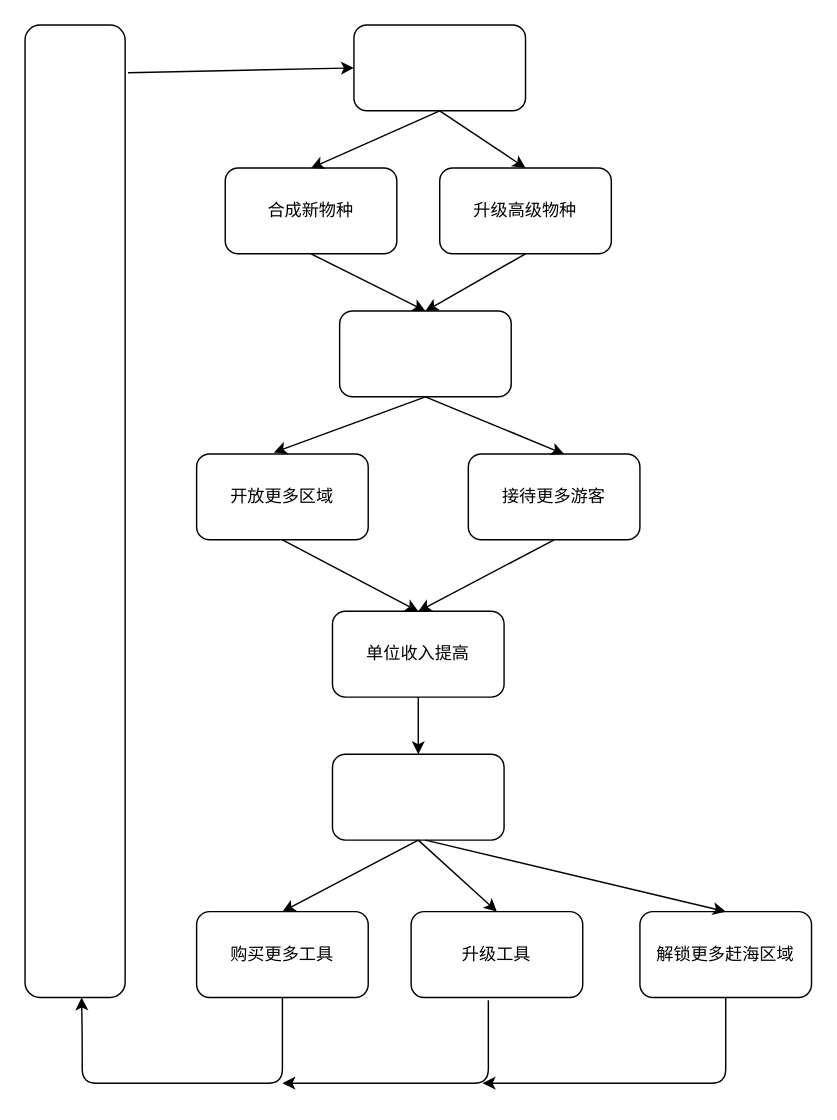
This 837x1120 diagram has some shape labels left out. The centre of each missing label's shape, as x and y in pixels:
"升级海洋水族馆" belongs at [424,353].
"获取各种海洋生物" belongs at [439,67].
"获取金币" belongs at [417,796].
"赶海" belongs at [74,510].
